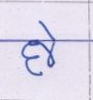e_matra: (38, 20, 57, 39)
